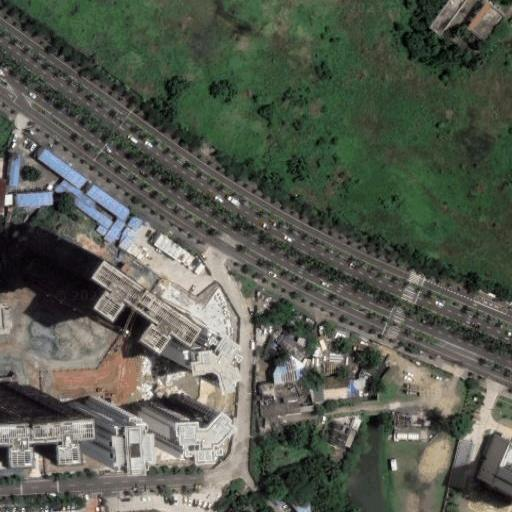building: (52, 244, 165, 338), (53, 179, 113, 235), (132, 384, 194, 438), (153, 317, 207, 374), (66, 397, 112, 448), (37, 148, 89, 191), (82, 180, 133, 223), (259, 380, 314, 417), (0, 385, 44, 427), (459, 0, 503, 42), (272, 329, 314, 365), (154, 233, 196, 267), (112, 214, 145, 251), (449, 440, 474, 488), (271, 353, 307, 386), (310, 374, 348, 404), (322, 419, 352, 451), (346, 371, 377, 398), (396, 415, 428, 441), (5, 152, 23, 188), (287, 490, 316, 512), (103, 217, 127, 243), (16, 191, 54, 205), (494, 469, 512, 495)
